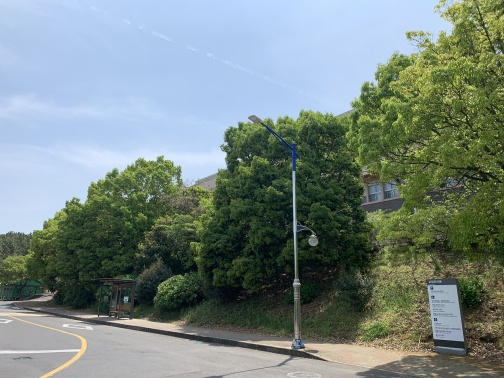College Of Education: (185, 103, 473, 216)
